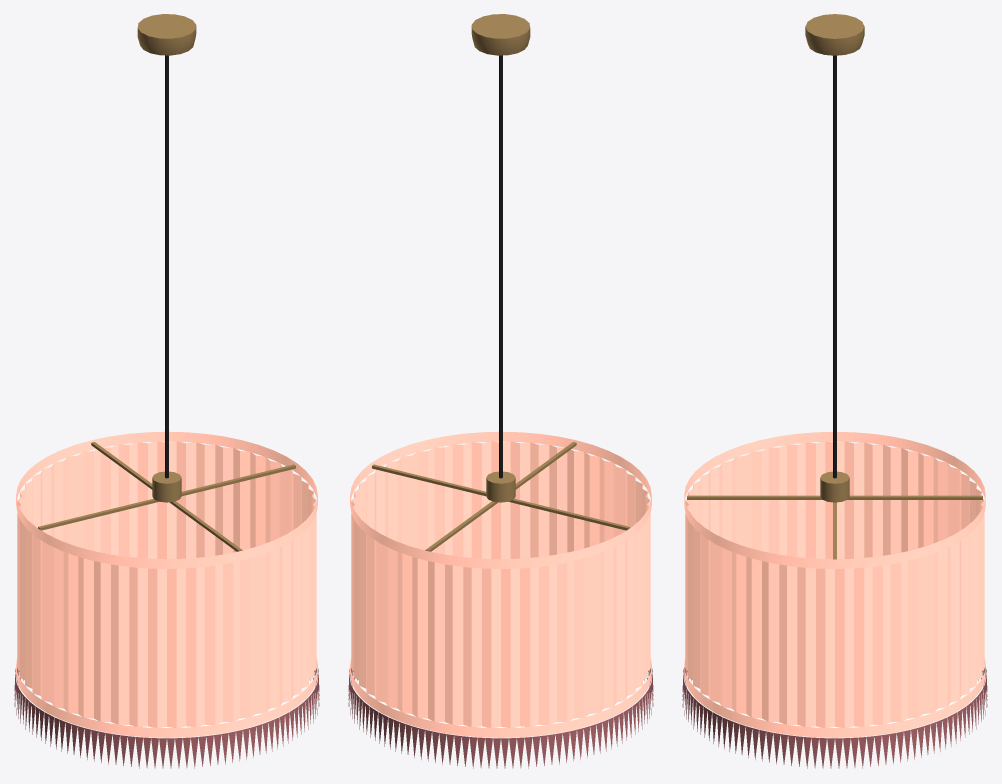
Rendered from pendant_drum.glb.
3 renders of one model, left to right at view 1: azimuth 30°, elevation 25°; view 2: azimuth 150°, elevation 25°; view 3: azimuth 270°, elevation 25°, orthographic.
Visible parts, largest first — view 1: pendant_drum; view 2: pendant_drum; view 3: pendant_drum.
Boxes of the visible parts, x1,y1,x2,y2 form: pendant_drum: (14, 14, 319, 768); pendant_drum: (348, 14, 653, 768); pendant_drum: (682, 14, 987, 768).
Size of the model in its own units: 0.6198 by 1.52 by 0.6198.
